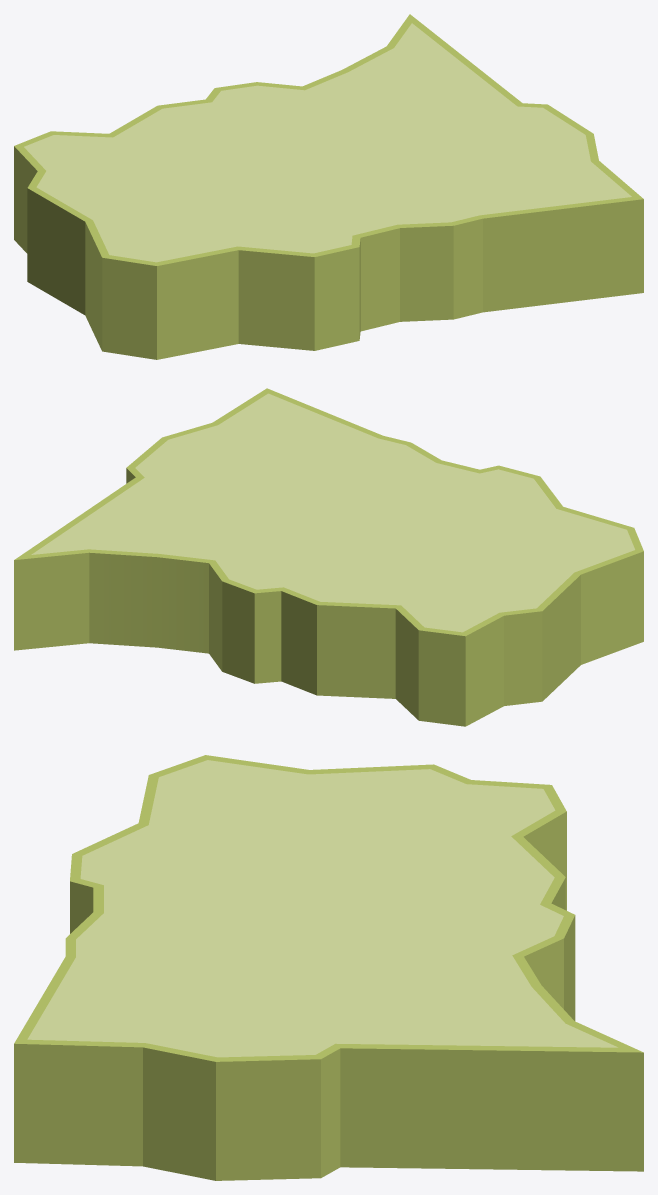
File: Islands2.001.fbx
The picture shows the model from 3 angles, top to bottom: view 1: azimuth 30°, elevation 25°; view 2: azimuth 150°, elevation 25°; view 3: azimuth 270°, elevation 25°; orthographic projection. The views are drawn at different scales.
Parts seen in each view (by area): view 1: Island2.001; view 2: Island2.001; view 3: Island2.001.
Boxes of the visible parts, left/top/right/bottom form: Island2.001: left=14, top=14, right=643, bottom=359; Island2.001: left=14, top=388, right=643, bottom=726; Island2.001: left=14, top=755, right=643, bottom=1180.
Size of the model in its own units: 138 by 25 by 120.
